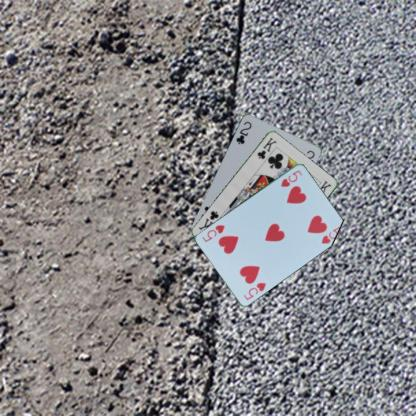2c: (234, 118, 252, 146)
5h: (241, 280, 267, 301), (278, 167, 303, 188)
Kc: (254, 135, 278, 160)
